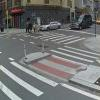Crosswalk: (2, 50, 62, 100)
